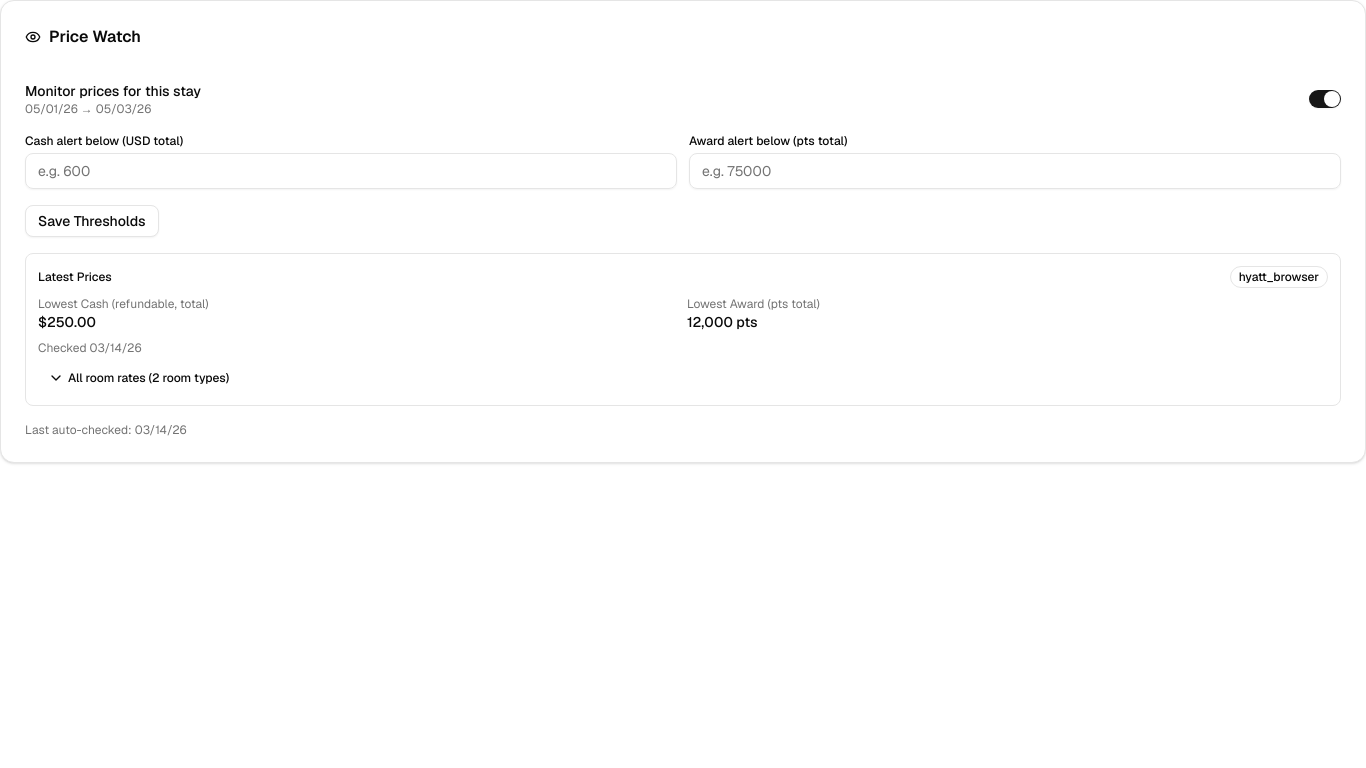
it: BookingPriceWatch › defaults to award sort for a points booking (pointsRedeemed>0)
Click the button with test id "toggle-room-rates" at coordinates (110, 378), box [38,364,1328,392]
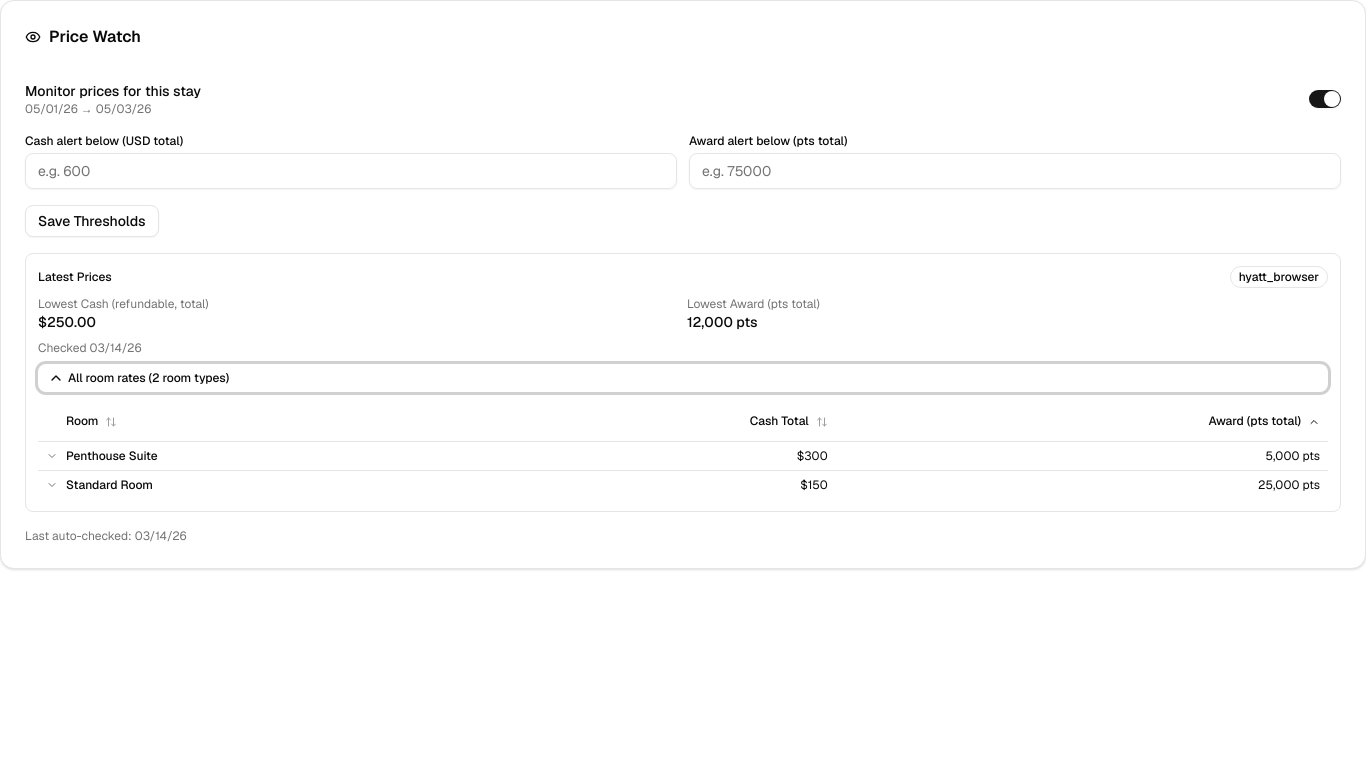
Check: the row with test id "room-group-row" shows "Penthouse Suite", box [66,448,158,464]
Check: the row with test id "room-group-row" shows "Standard Room", box [66,476,153,492]
